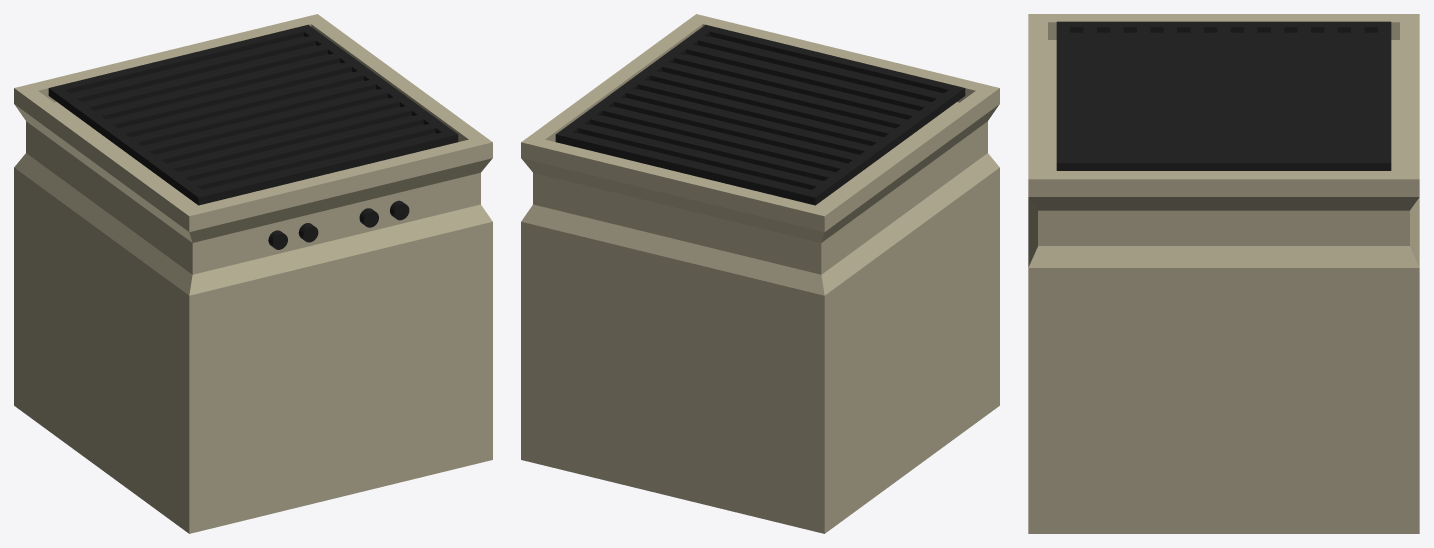
File: grill.fbx
The picture shows the model from 3 angles, left to right: view 1: azimuth 30°, elevation 25°; view 2: azimuth 150°, elevation 25°; view 3: azimuth 270°, elevation 25°; orthographic projection. The views are drawn at different scales.
Parts seen in each view (by area): view 1: Cube, Cube.001; view 2: Cube, Cube.001; view 3: Cube, Cube.001.
Part boxes in pixels (<box>): Cube: <box>14,14,492,533</box>; Cube.001: <box>48,24,458,205</box>; Cube: <box>521,14,999,533</box>; Cube.001: <box>555,24,965,205</box>; Cube: <box>1028,14,1419,533</box>; Cube.001: <box>1056,21,1391,170</box>.
Bounding box in the file's own units: 100 × 101 × 100.
